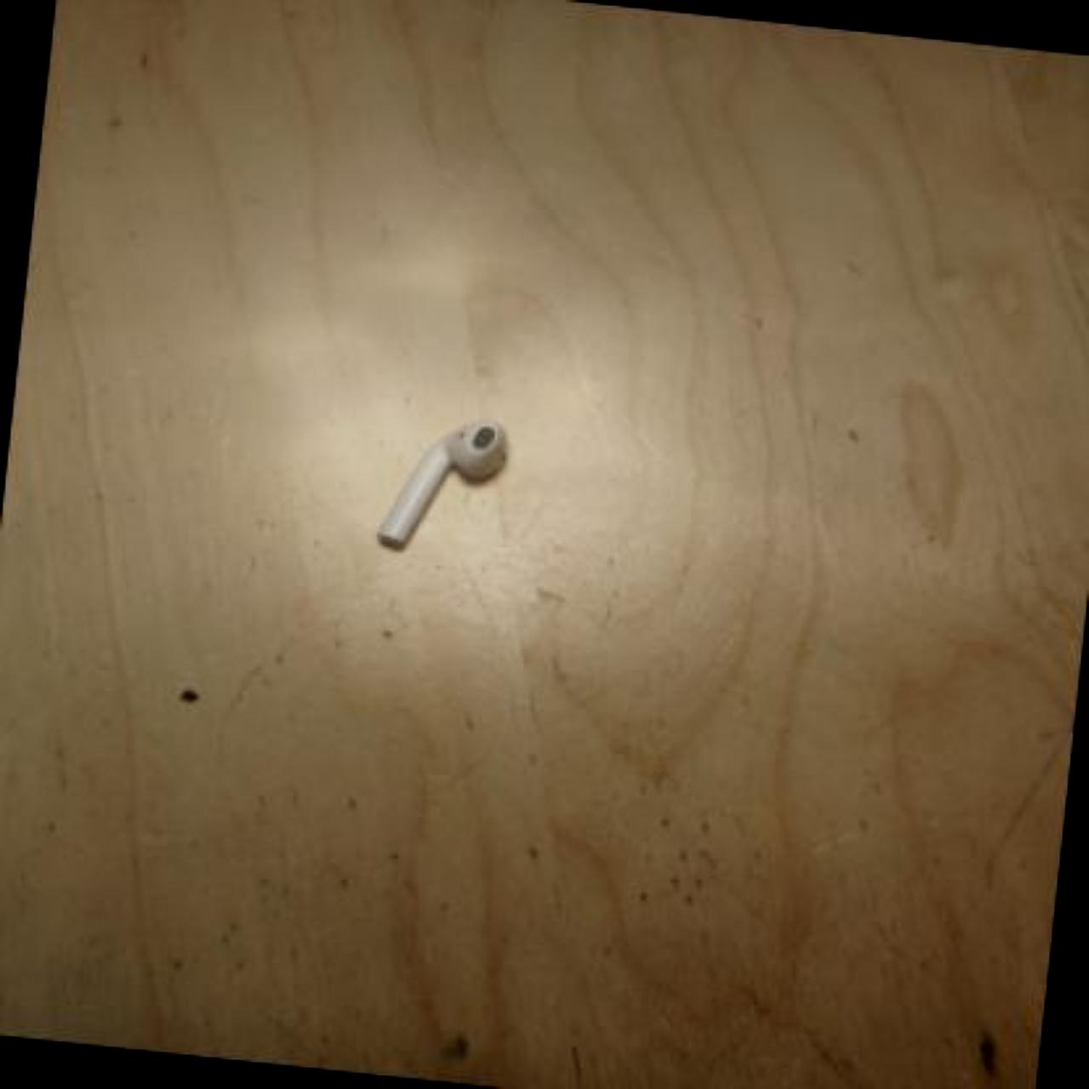Airpods_Units: (376, 410, 512, 559)
